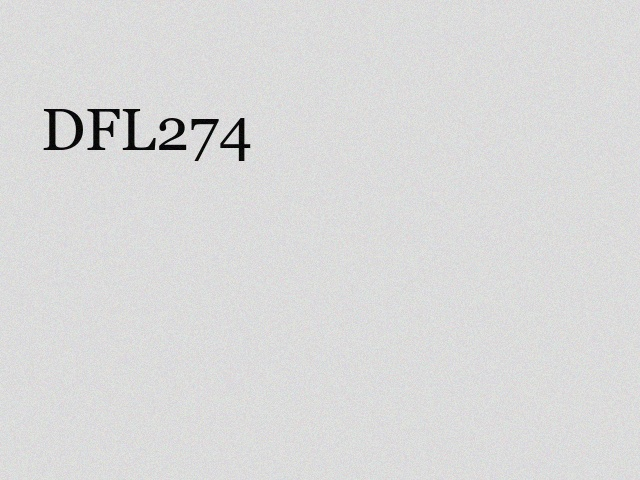OCR_AREA: (37, 105, 256, 165)
